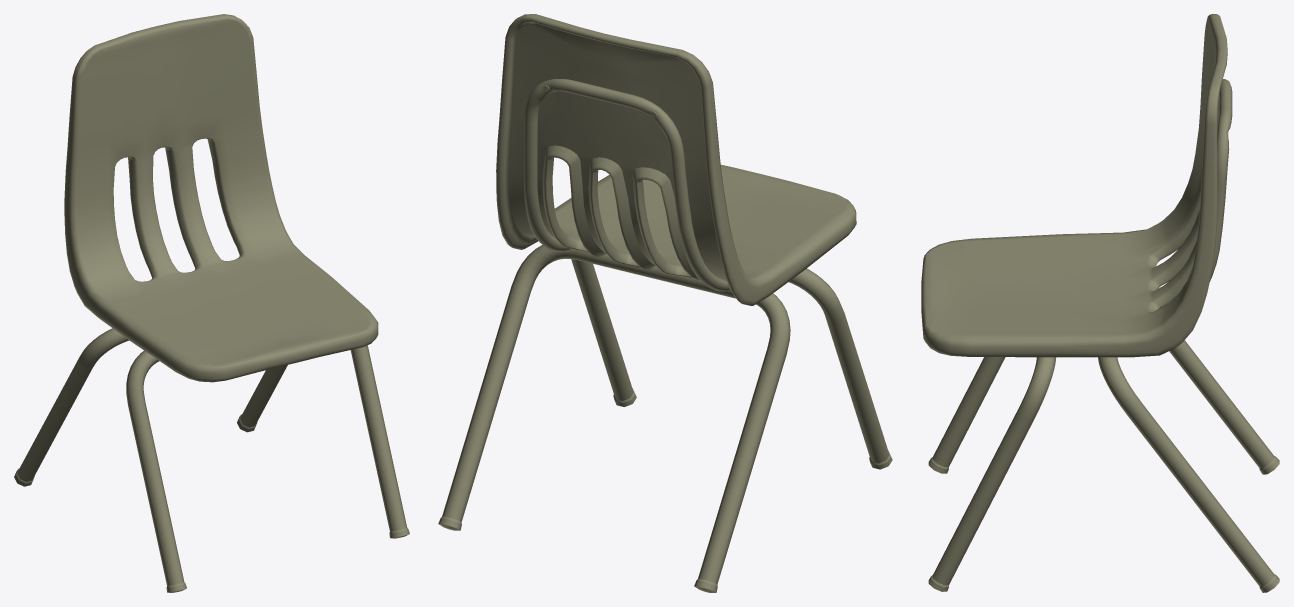
The picture shows the model from 3 angles, left to right: view 1: azimuth 30°, elevation 25°; view 2: azimuth 150°, elevation 25°; view 3: azimuth 270°, elevation 25°; orthographic projection. The views are drawn at different scales.
Visible parts, largest first — view 1: SchoolChair_01; view 2: SchoolChair_01; view 3: SchoolChair_01.
Boxes of the visible parts, left/top/right/bottom form: SchoolChair_01: left=14, top=14, right=409, bottom=592; SchoolChair_01: left=438, top=14, right=892, bottom=592; SchoolChair_01: left=921, top=14, right=1279, bottom=592.
Size of the model in its own units: 0.5659 by 1.01 by 0.6752.
